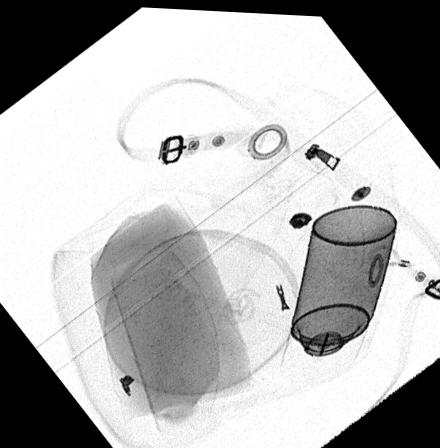Sprayer: (280, 201, 397, 379)
